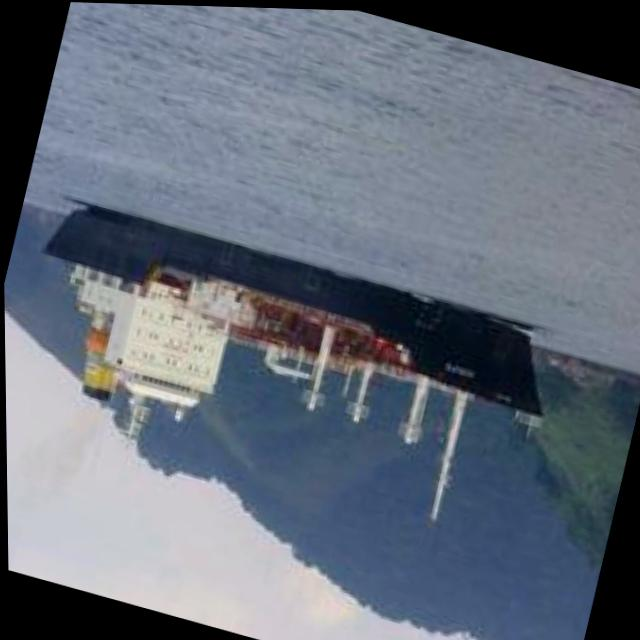ship2: (41, 204, 540, 516)
